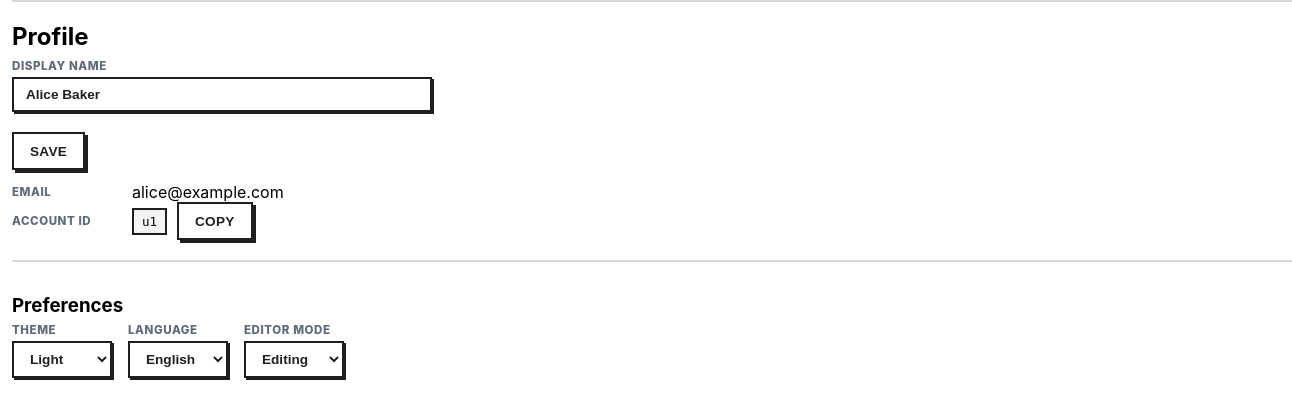
Scenario: ProfileSection › saves a valid display name and confirms it
Clear the field labelled "Display name": {"x": 222, "y": 94} [12,77,432,112]
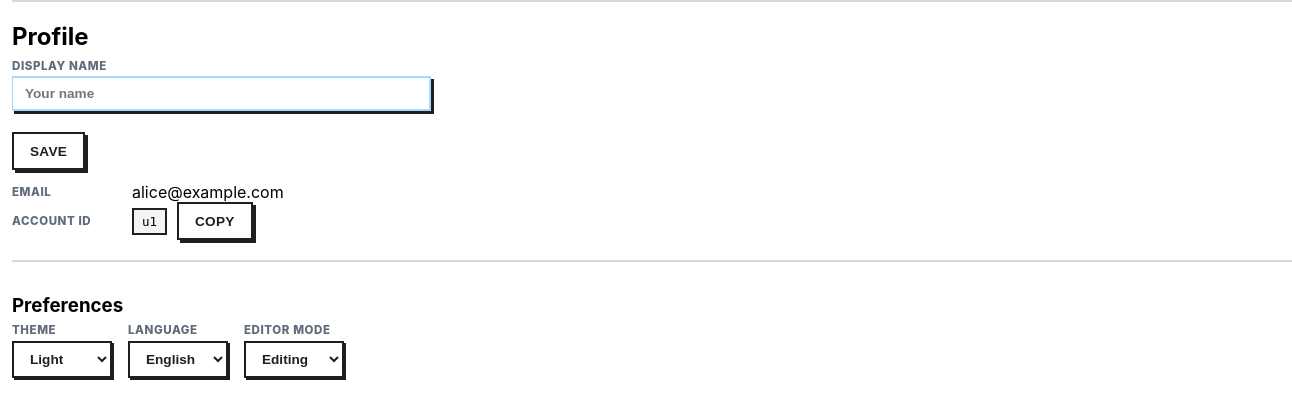
In the field labelled "Display name": {"x": 221, "y": 94} [11,76,431,111], type "Alice B."
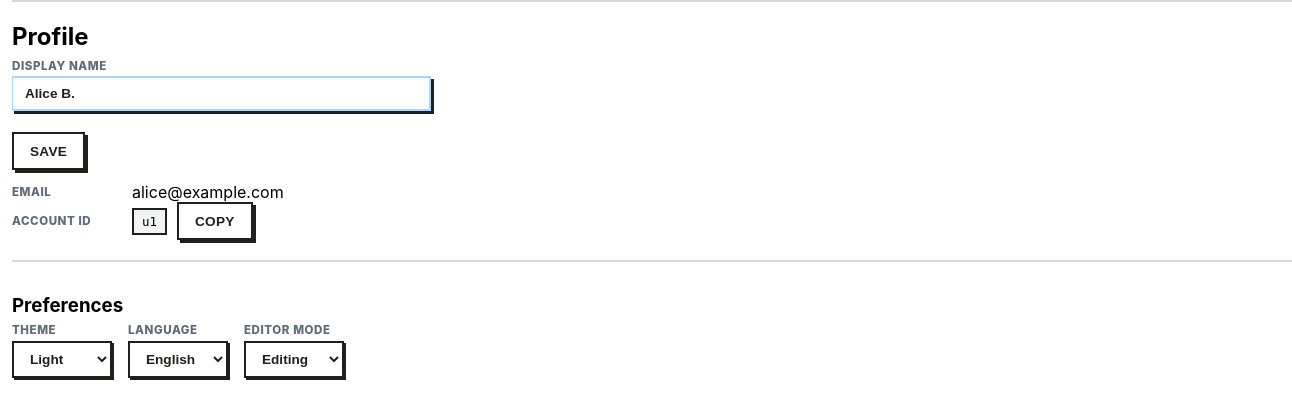
Click the button "Save": {"x": 49, "y": 151} [12,132,85,170]
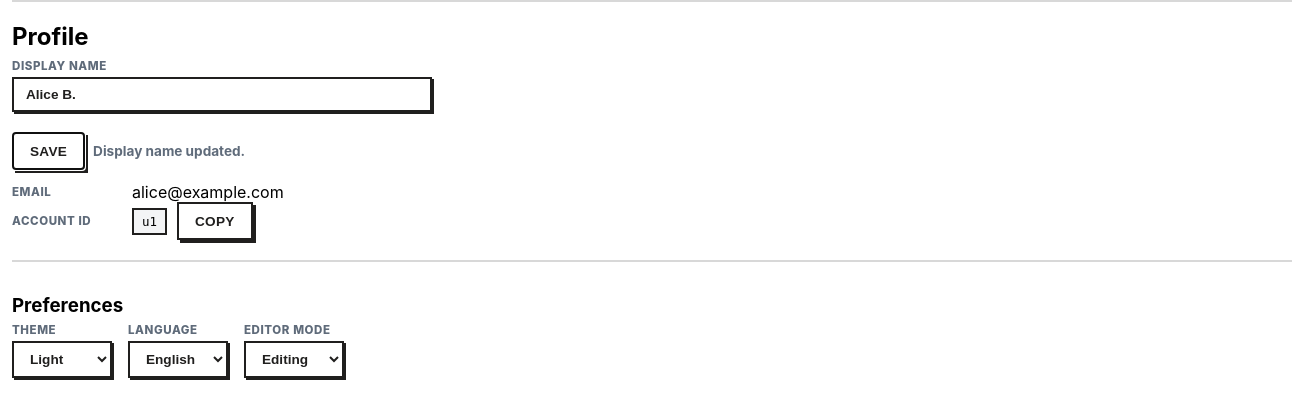
Expected: the text "Display name updated." is shown, [93,143,245,159]
